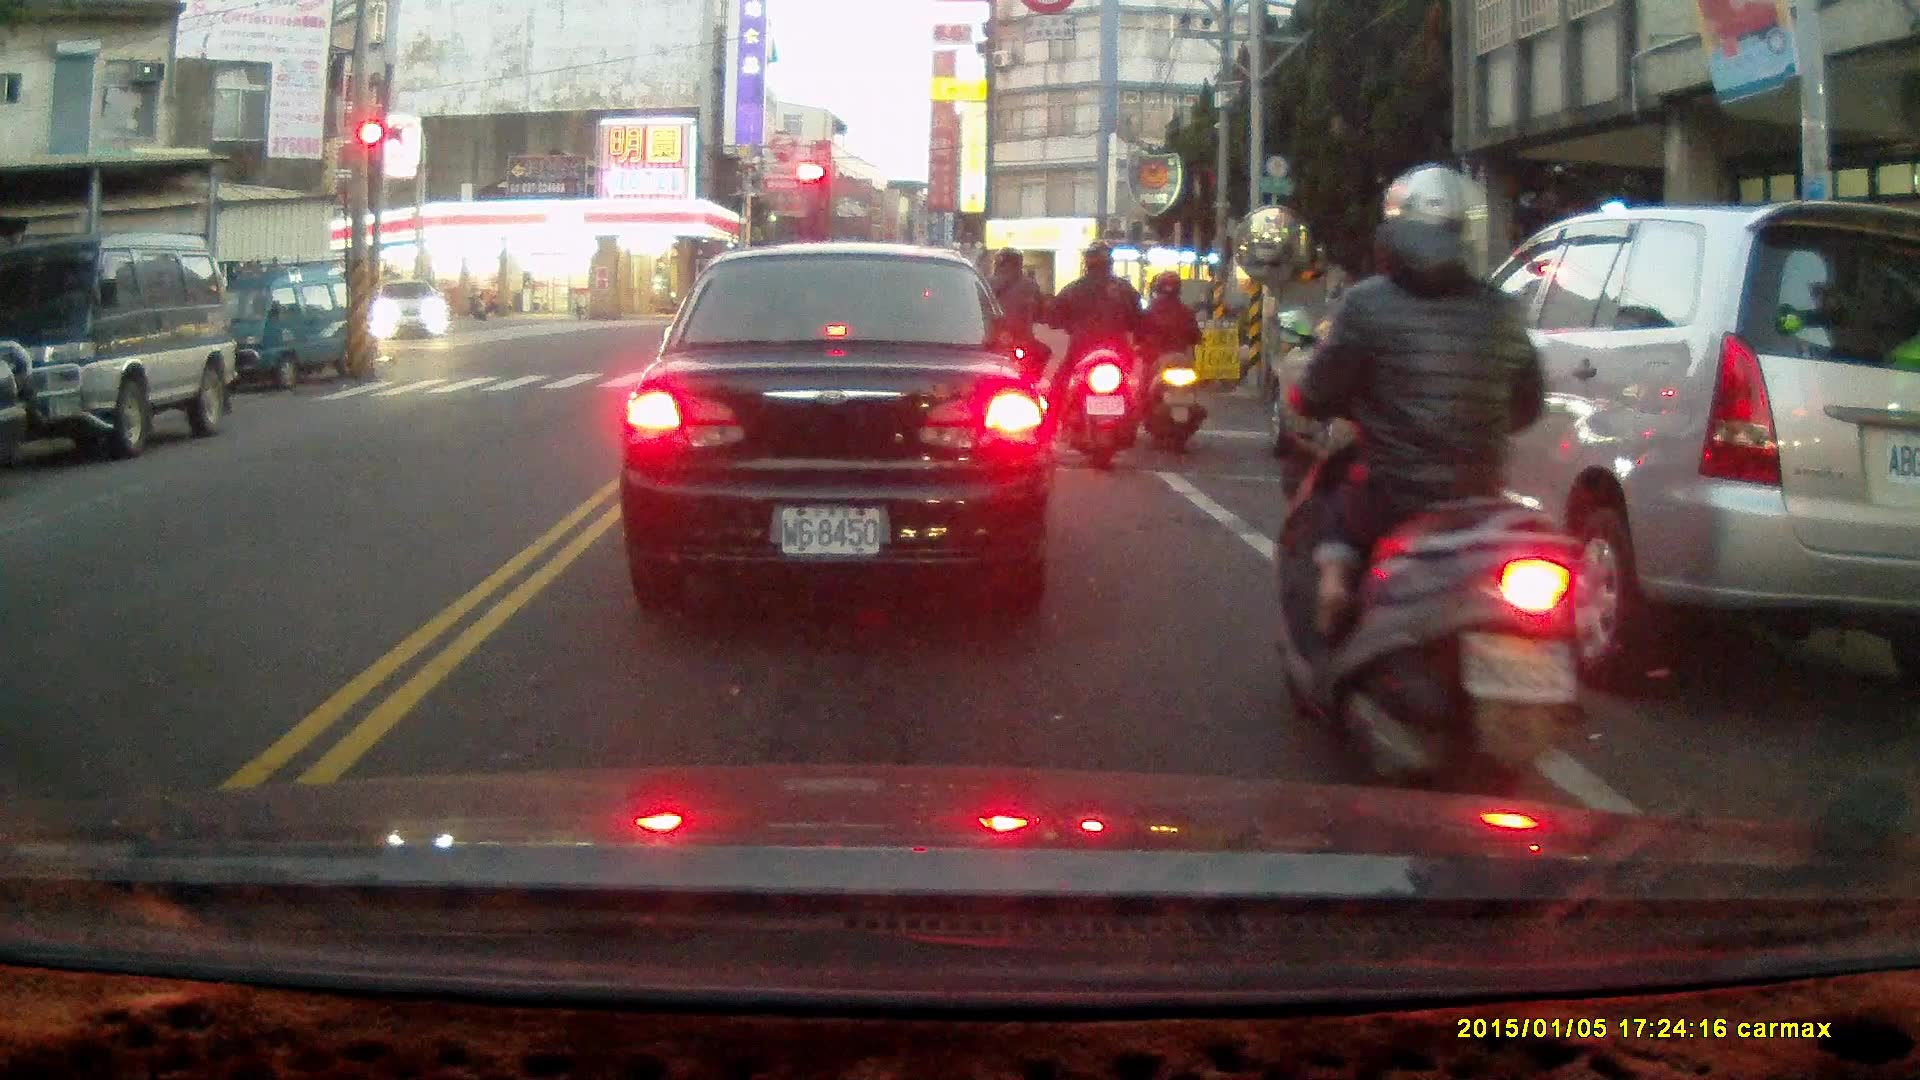rider: (1270, 164, 1583, 830), (1048, 242, 1141, 468), (963, 250, 1049, 431), (1135, 270, 1205, 451)
vehicle: (1375, 197, 1920, 687), (638, 246, 1050, 597), (1264, 287, 1603, 492), (5, 234, 241, 455), (189, 261, 381, 393), (372, 277, 451, 343)
